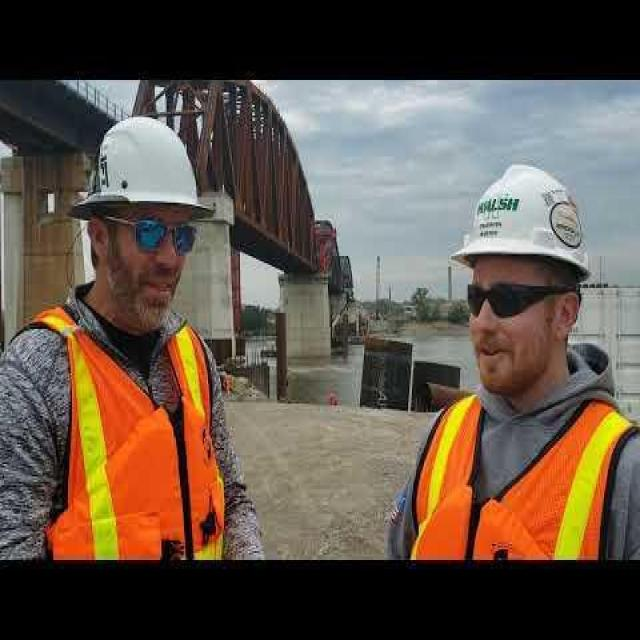helmet: (68, 116, 216, 220), (451, 164, 589, 274)
